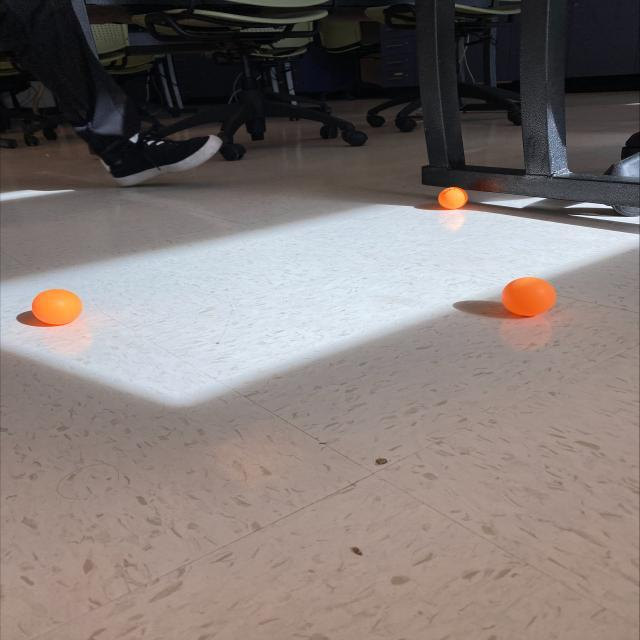ping-pong-ball: (496, 274, 563, 318), (30, 288, 84, 326), (436, 186, 469, 210)
